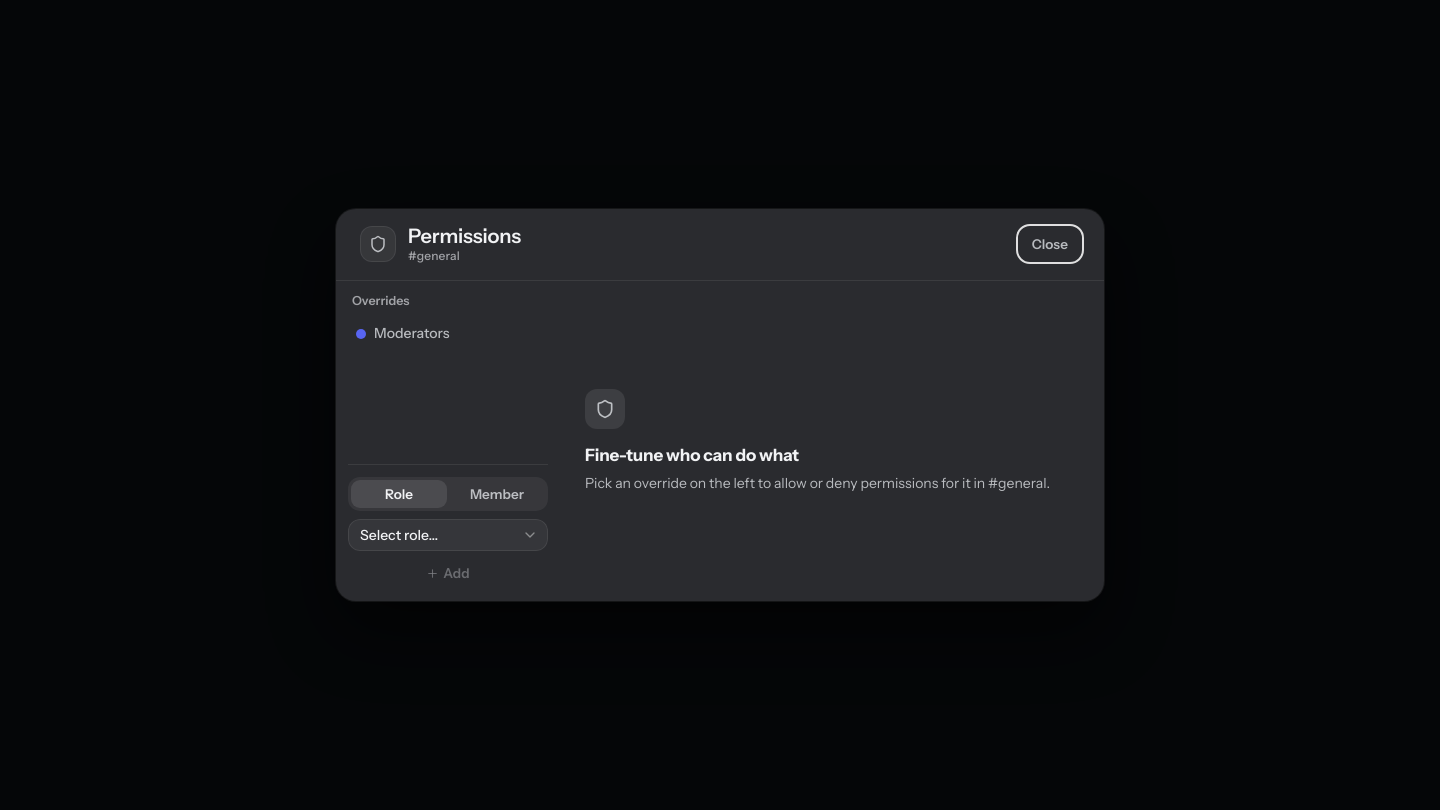
Test case: ChannelPermissionsEditor › makes administrator bypass explicit in the preview
This screenshot has width=1440, height=810.
Click the button "Moderators".
click(448, 334)  # box 348,316 -> 548,352
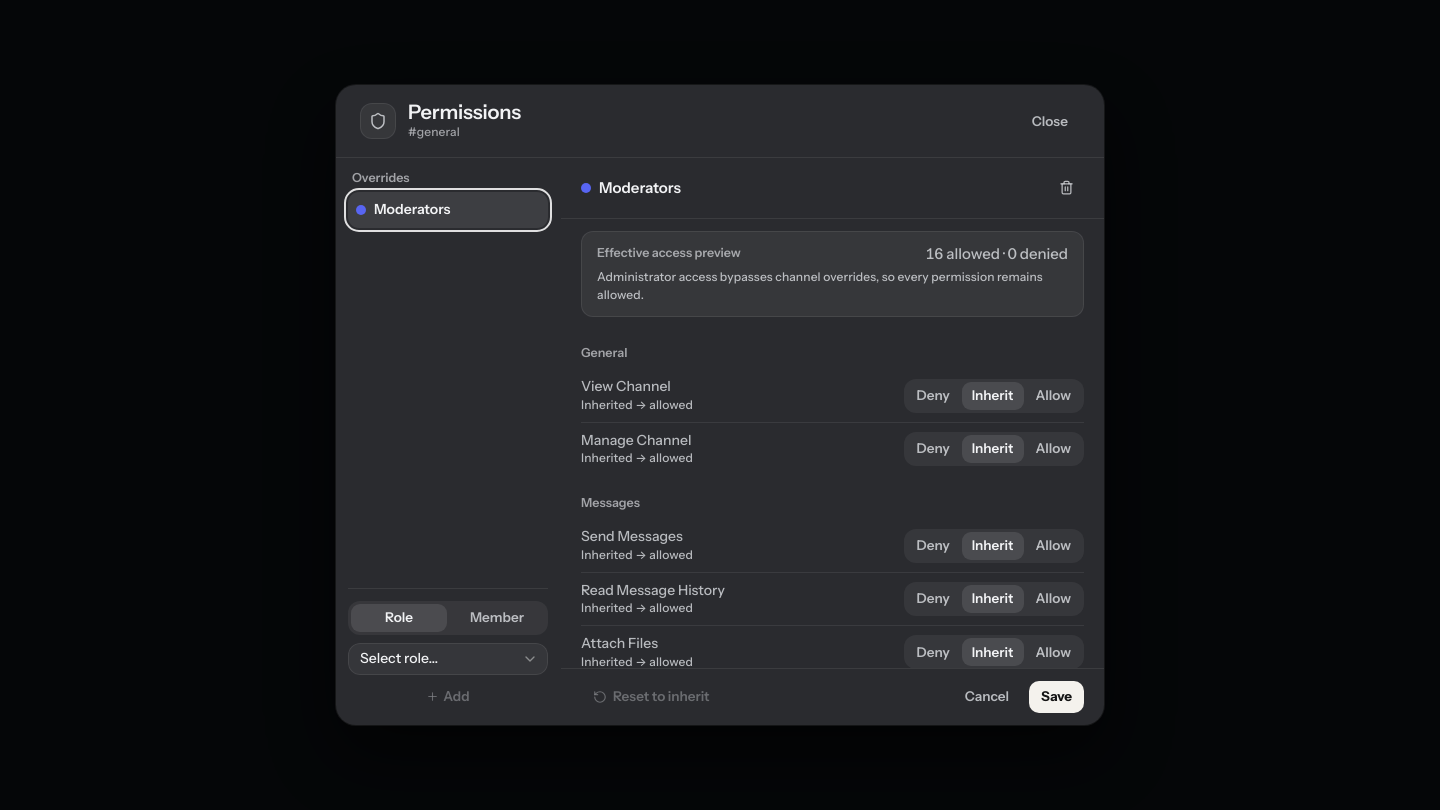
Result: the text "Administrator access bypasses channel overrides" is shown at 597,269 -> 1043,302
Result: the text "16 allowed · 0 denied" is shown at 925,243 -> 1068,264
